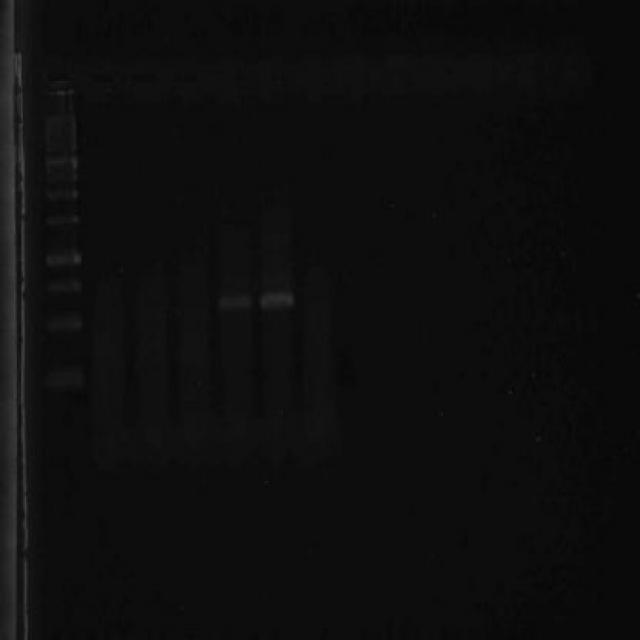B: (256, 287, 296, 313), (218, 291, 253, 314)
L: (29, 54, 598, 110)
M: (33, 127, 90, 401)
P: (44, 363, 86, 391), (41, 210, 80, 232), (44, 312, 84, 332), (44, 248, 81, 268), (43, 280, 82, 296), (41, 187, 80, 202), (41, 154, 80, 168), (41, 169, 80, 183), (43, 138, 79, 152)
Pc: (39, 68, 79, 100)
